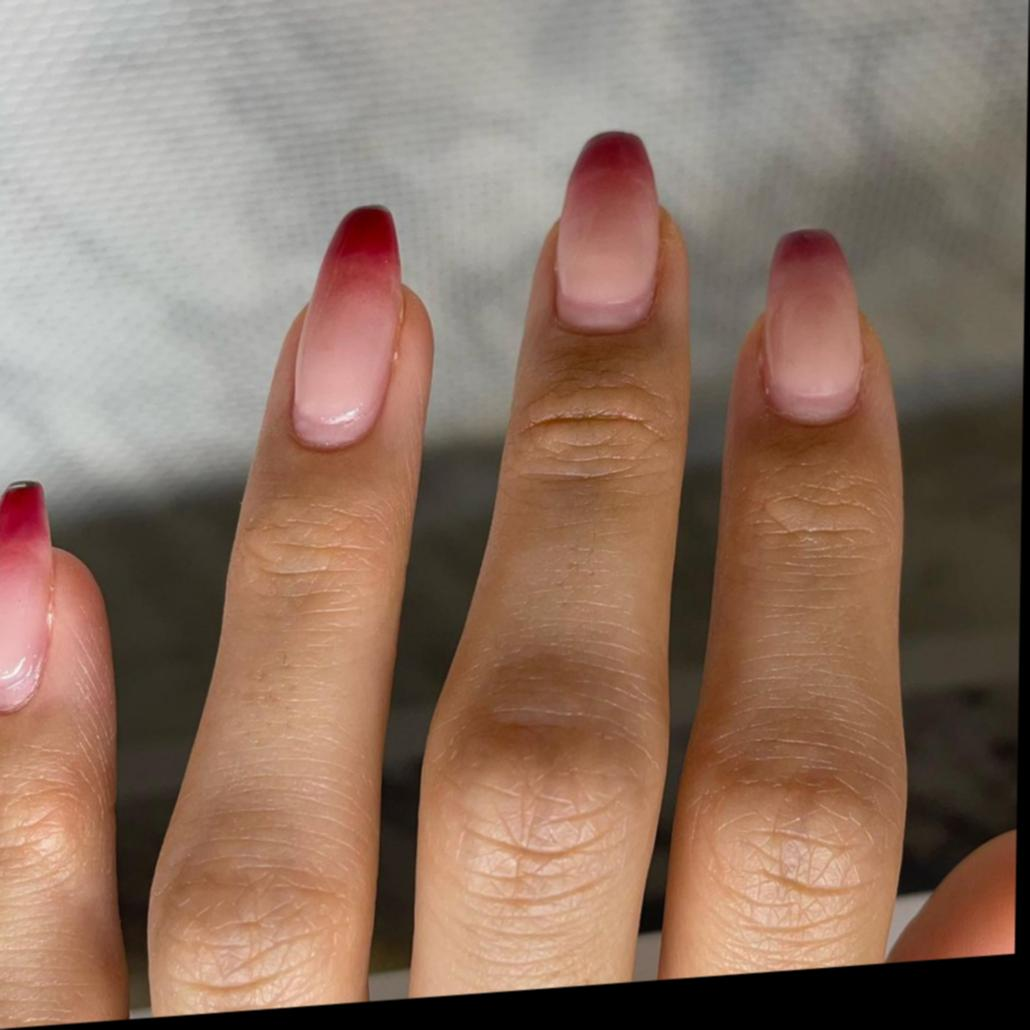nail: (290, 202, 409, 456), (553, 128, 663, 341), (762, 225, 868, 432), (0, 479, 59, 717)
